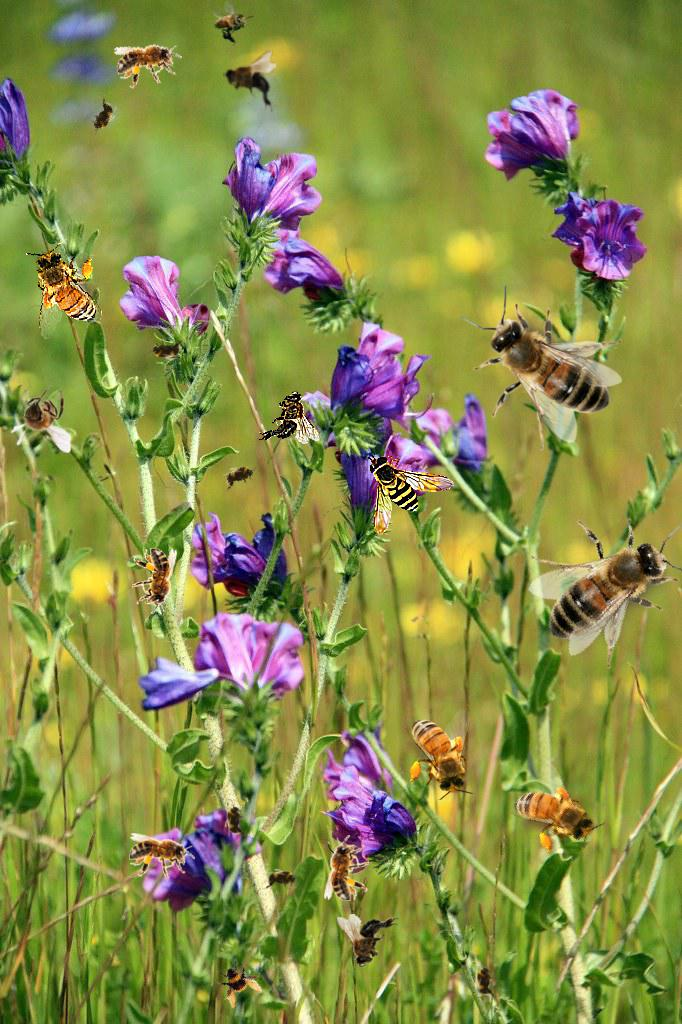Bee: (504, 479, 682, 687), (460, 284, 622, 451), (498, 754, 610, 871), (25, 239, 105, 340), (367, 453, 455, 535), (406, 707, 474, 800), (111, 32, 187, 93), (10, 383, 71, 453), (208, 951, 270, 1013), (337, 914, 399, 967), (258, 391, 320, 444), (223, 50, 276, 112), (129, 833, 195, 878), (324, 835, 369, 901), (132, 548, 177, 614), (83, 94, 123, 140), (217, 459, 263, 493), (224, 800, 246, 840), (146, 339, 186, 361), (474, 961, 496, 1001), (262, 868, 302, 890)
